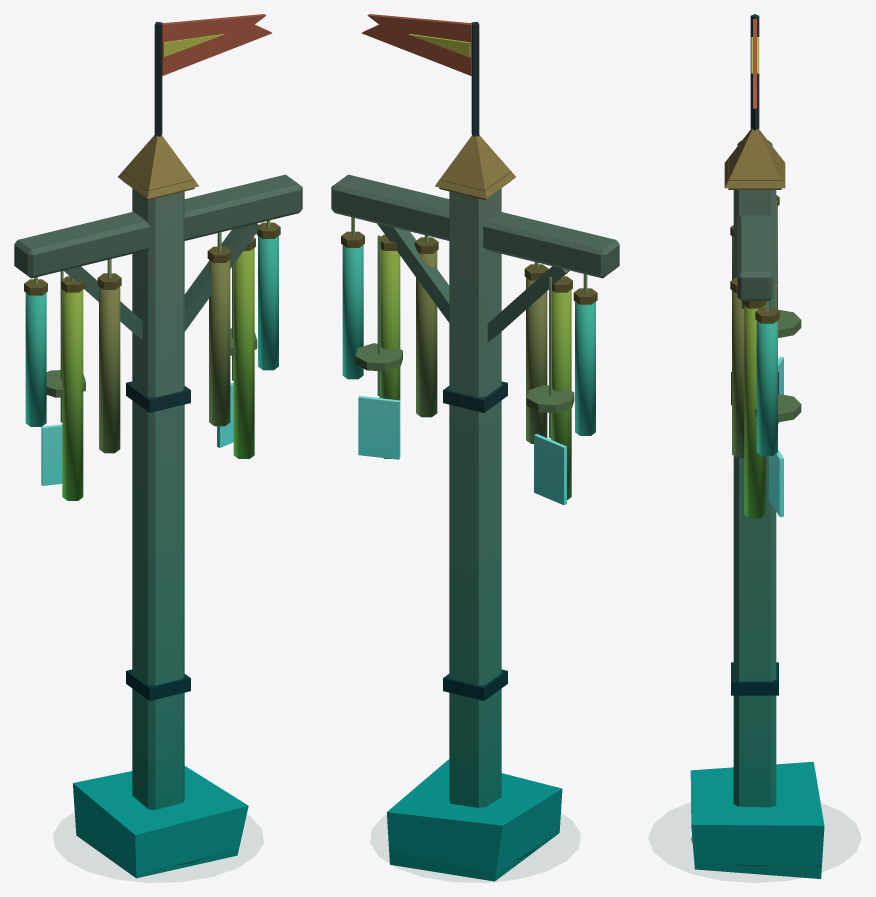
The model's file is chime_post.glb.
The picture shows the model from 3 angles, left to right: view 1: azimuth 30°, elevation 25°; view 2: azimuth 150°, elevation 25°; view 3: azimuth 270°, elevation 25°; orthographic projection.
Parts seen in each view (by area): view 1: chime_post; view 2: chime_post; view 3: chime_post.
Boxes of the visible parts, box(x1,y1,x2,y2) form: chime_post: box(14, 14, 302, 878); chime_post: box(331, 14, 619, 881); chime_post: box(690, 14, 824, 878).
Size of the model in its own units: 0.9 by 2.59 by 0.6.
